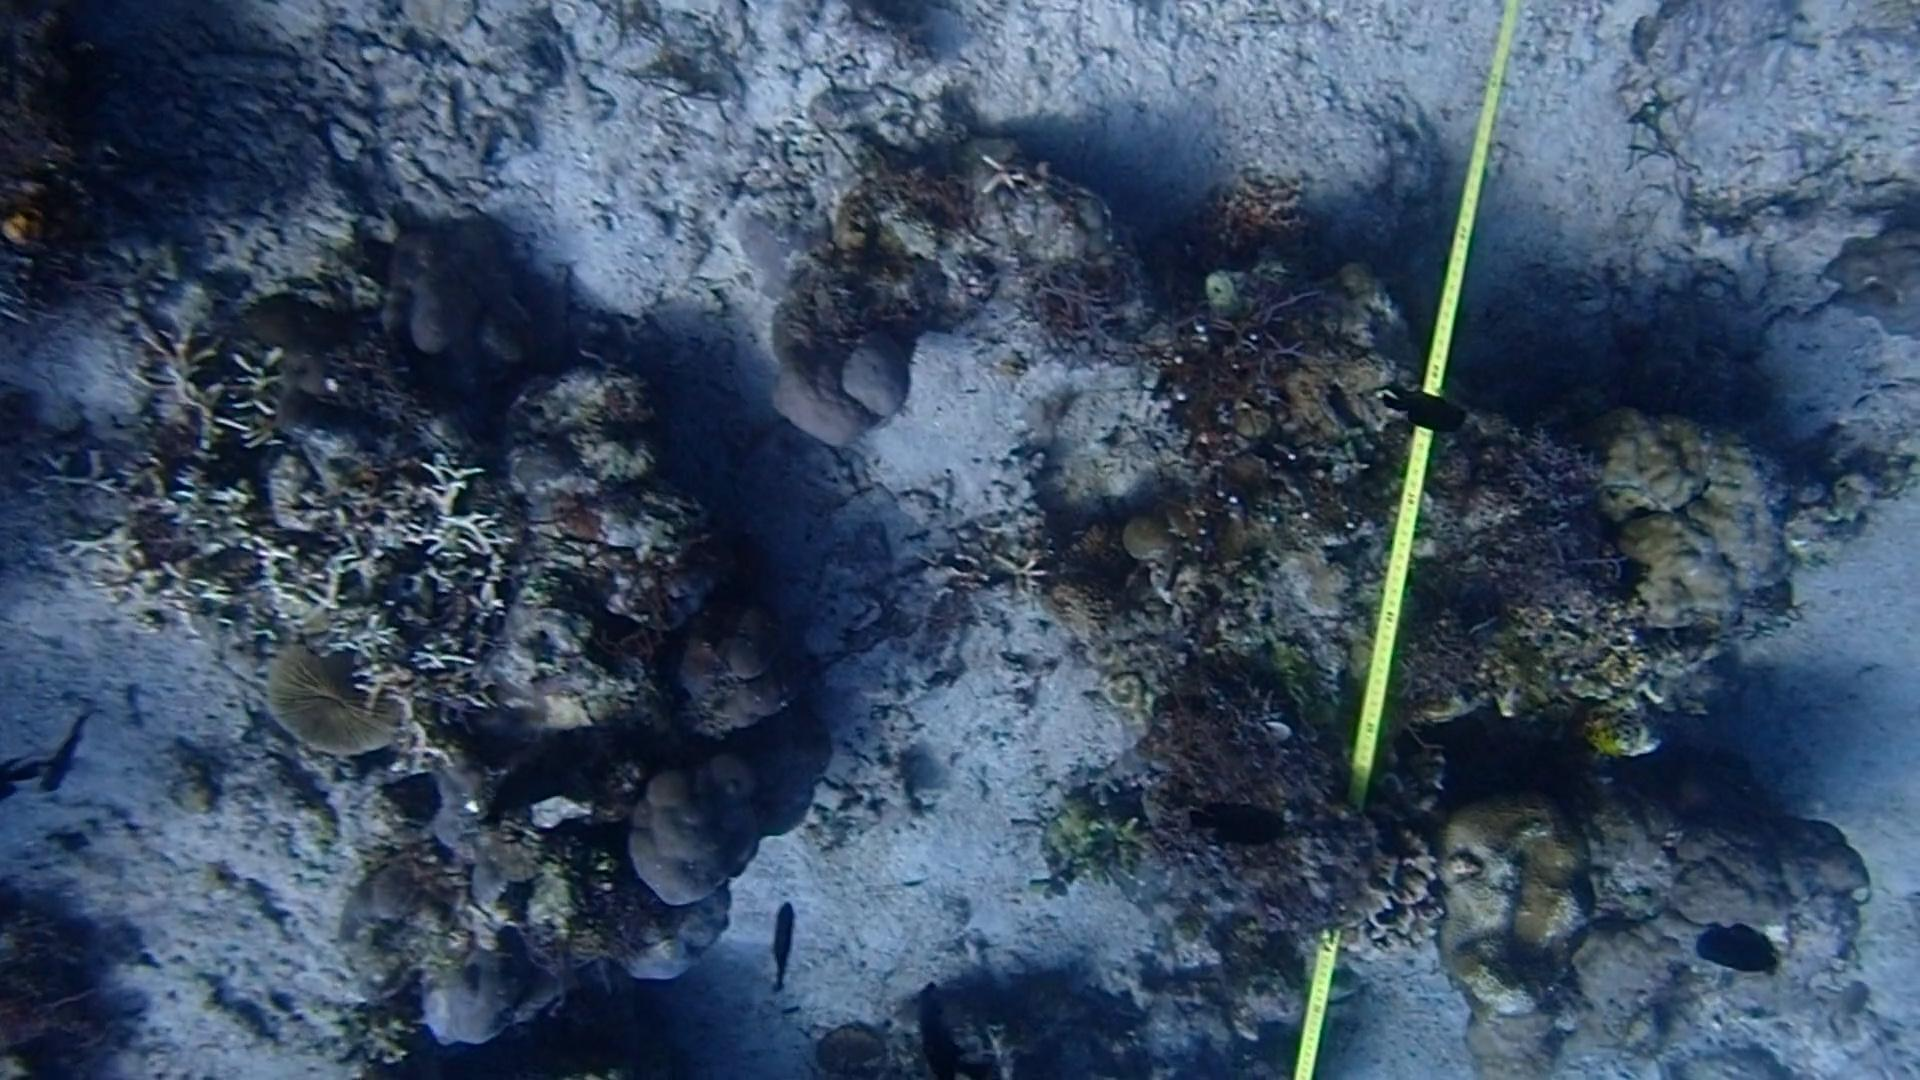Dark Fish: (473, 723, 608, 835), (1356, 367, 1484, 447), (21, 704, 112, 810), (1163, 790, 1291, 860), (890, 988, 981, 1080), (1676, 909, 1789, 977), (745, 906, 819, 1002)
